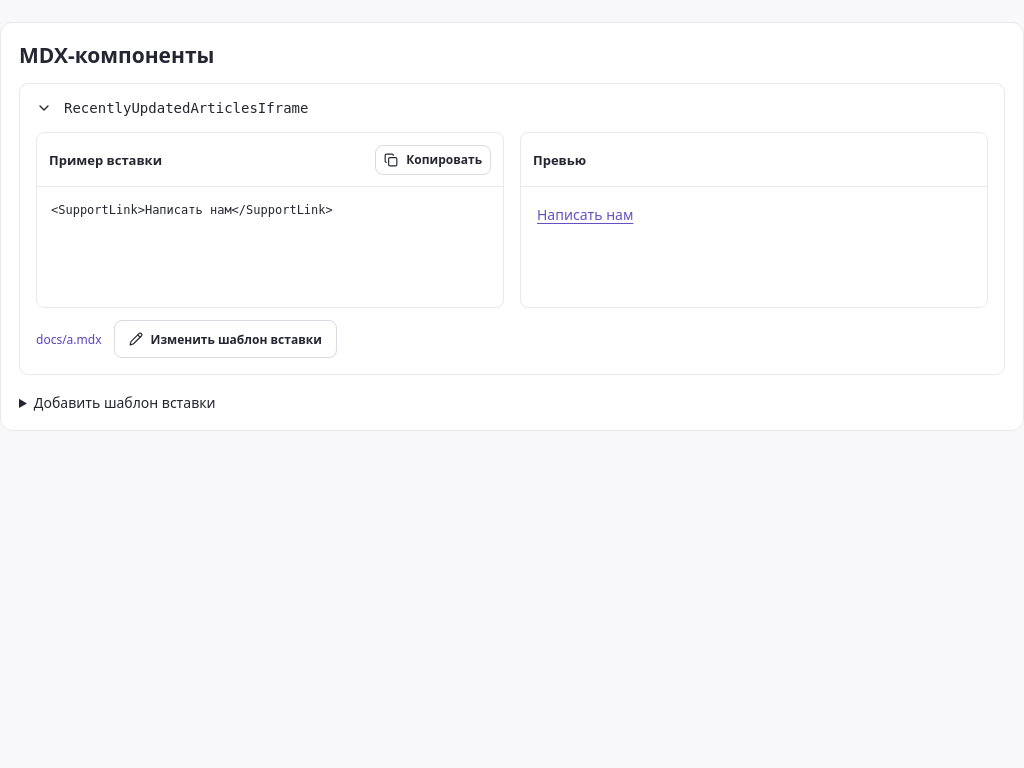
Test case: copies insertion code, reports clipboard errors and closes the editor
Click the button "Копировать".
click(433, 160)  # box [375,144,491,174]
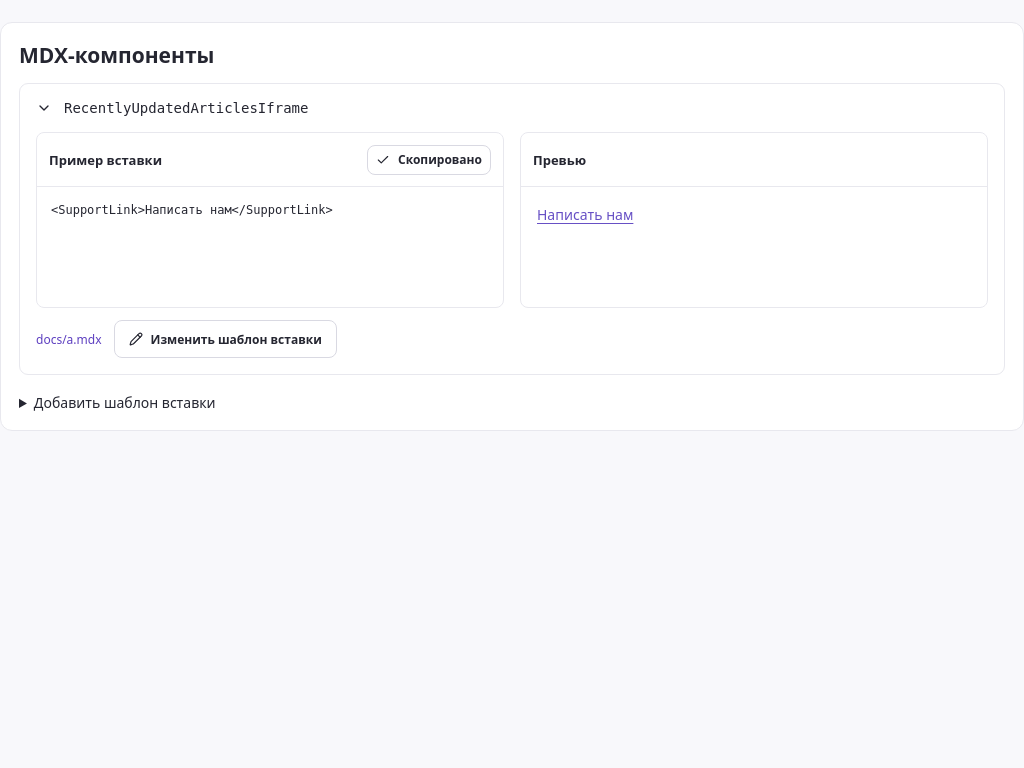
Check: the button "Скопировано" is shown
Click the button "Скопировано".
click(429, 160)  # box [367,144,491,174]
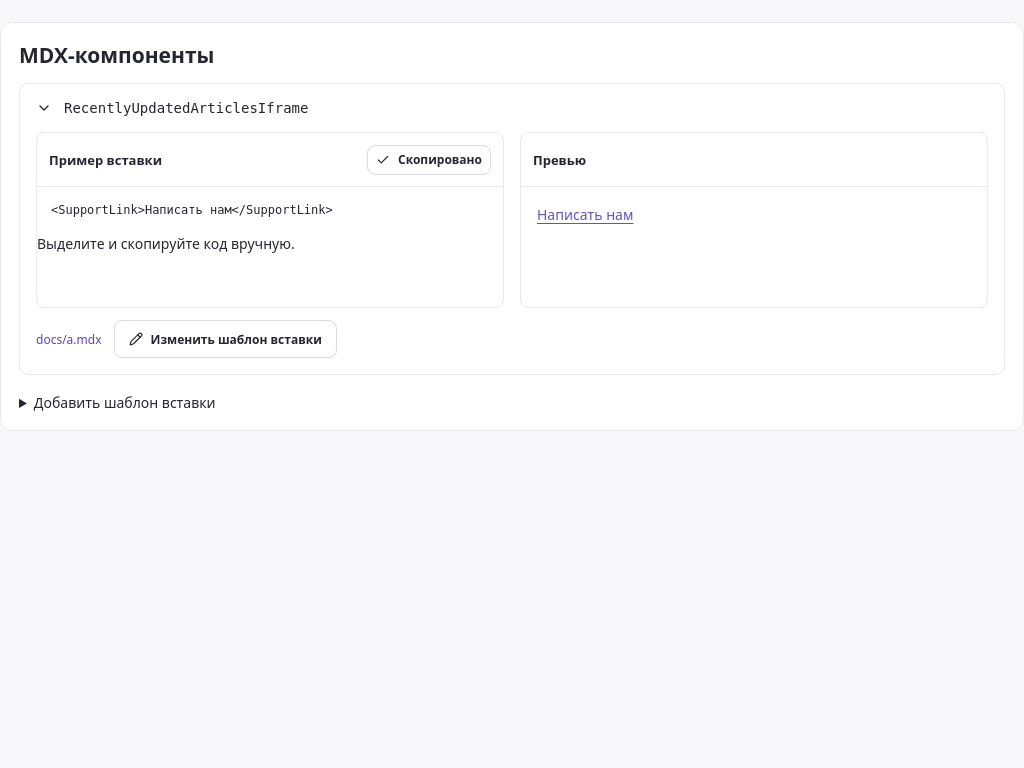
Check: the message "Выделите и скопируйте код вручную." is shown, box [37,234,295,253]
Click the button "Изменить шаблон вставки".
click(225, 339)  # box [114,320,337,358]
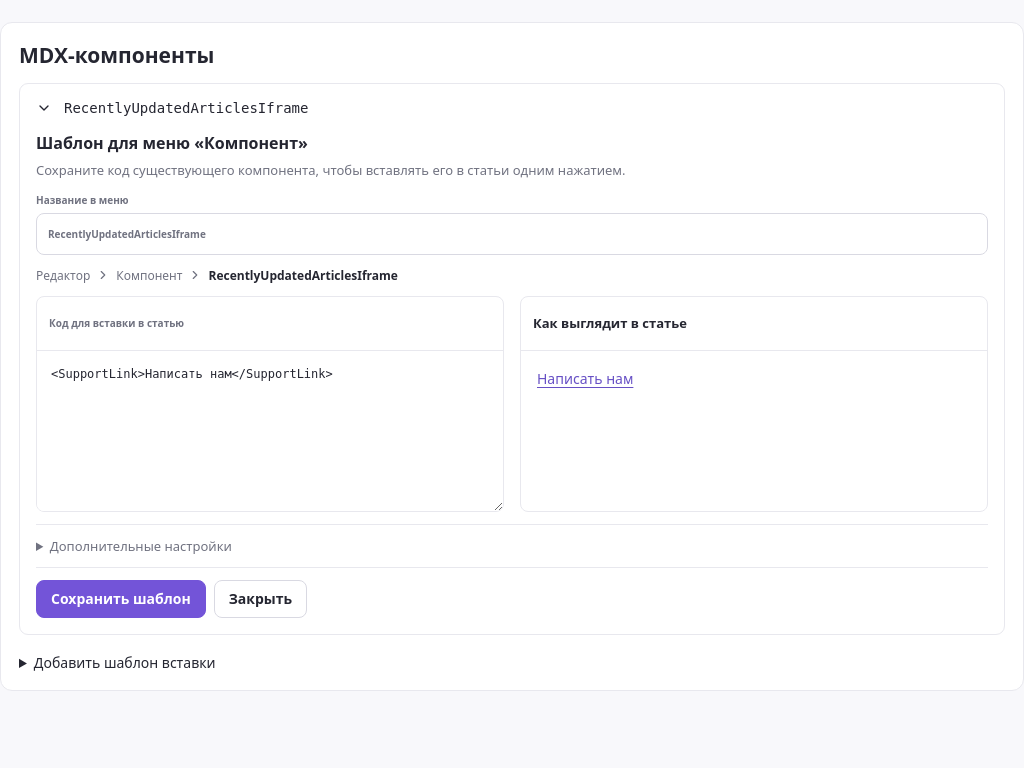
Click the button "Закрыть".
click(260, 599)  # box [214,580,307,618]
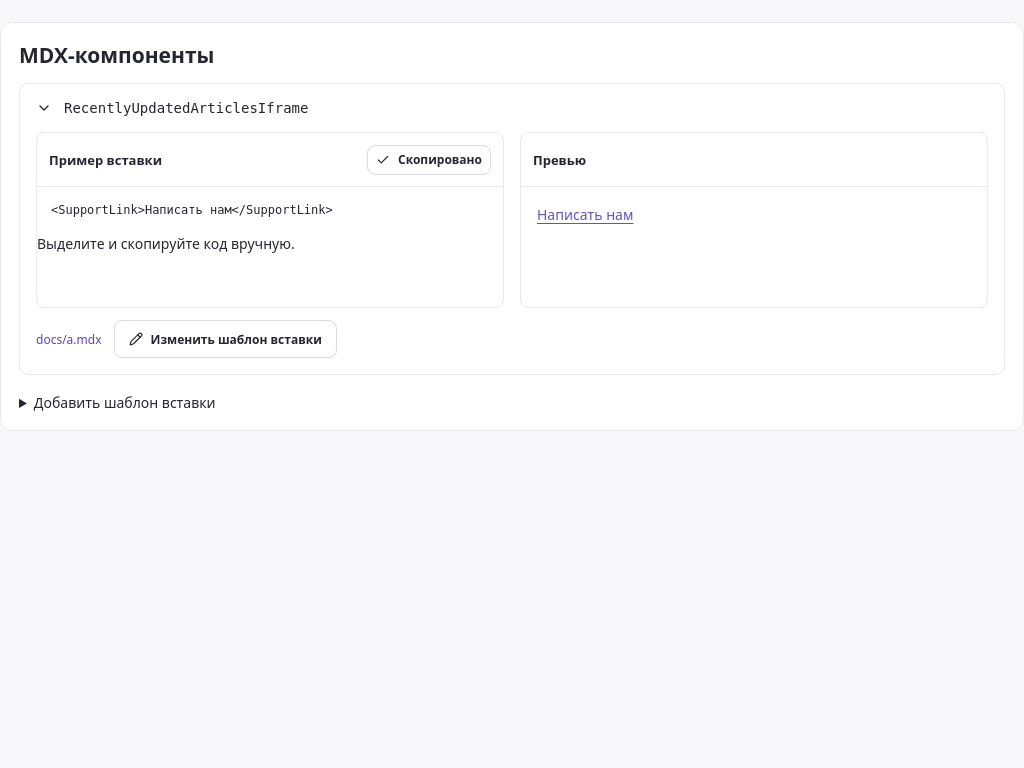
Check: the heading "Пример вставки" is shown, box [49,150,162,168]
